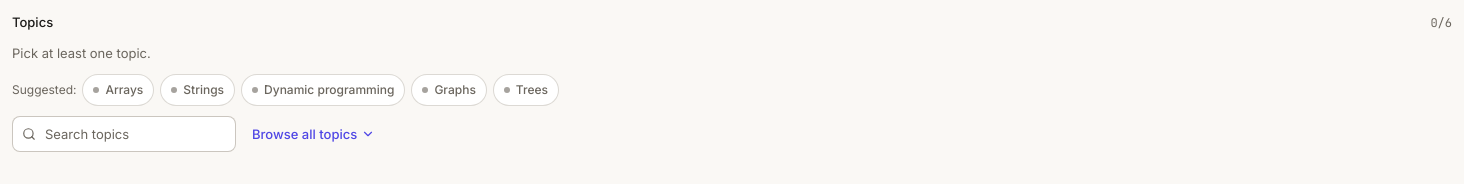
TopicPicker › finds topics by search and adds the first match on Enter
The width and height of the screenshot is (1464, 184).
Type "netw" into the field labelled "Search topics".
click(124, 134); type("netw")  # box [12,116,236,152]
Then press Enter
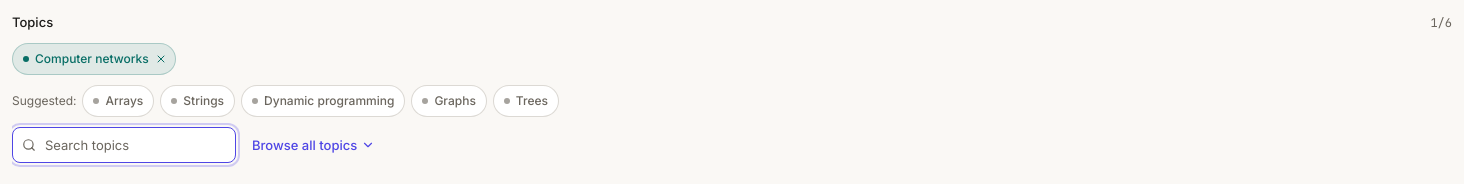
Result: the button with aria-label "Remove Computer networks" is shown at [12,43,176,75]
